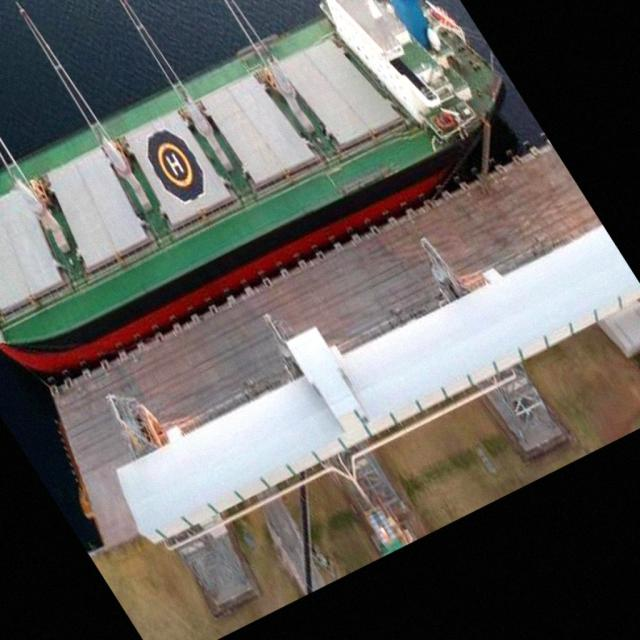helipad: (156, 142, 192, 188)
